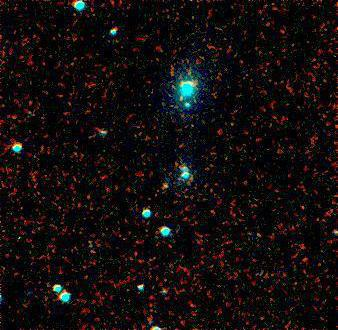star: (151, 171, 181, 201)
